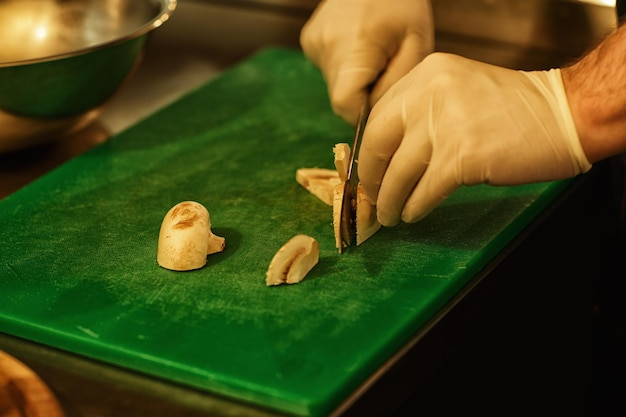knife: (338, 89, 376, 262)
